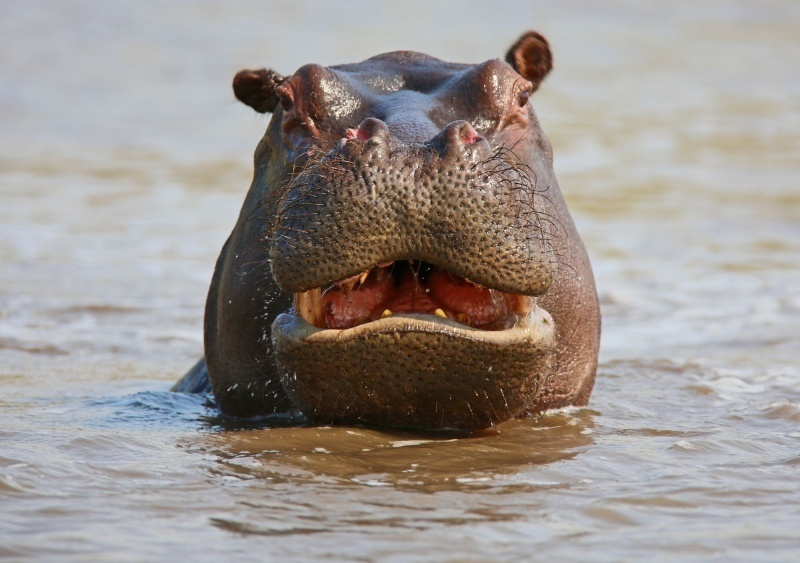hipopotamo: (170, 26, 607, 462)
